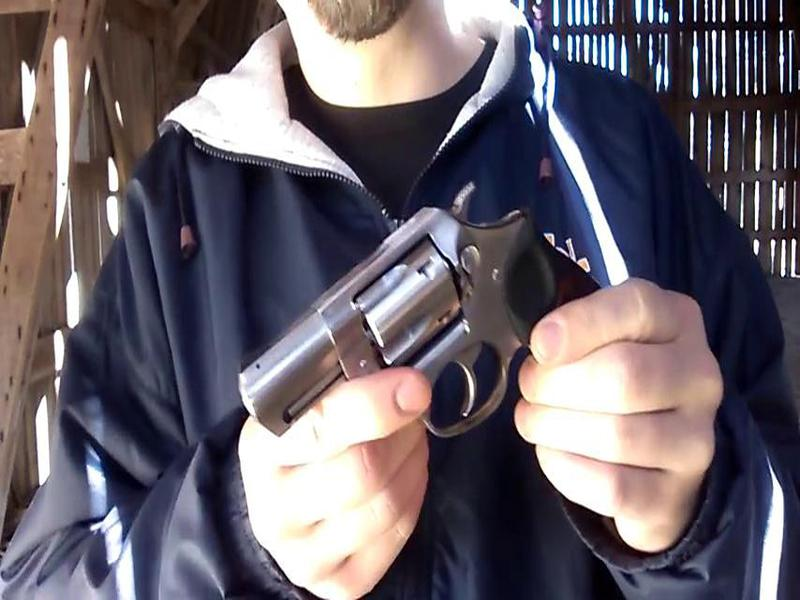Revolver: (214, 197, 585, 452)
